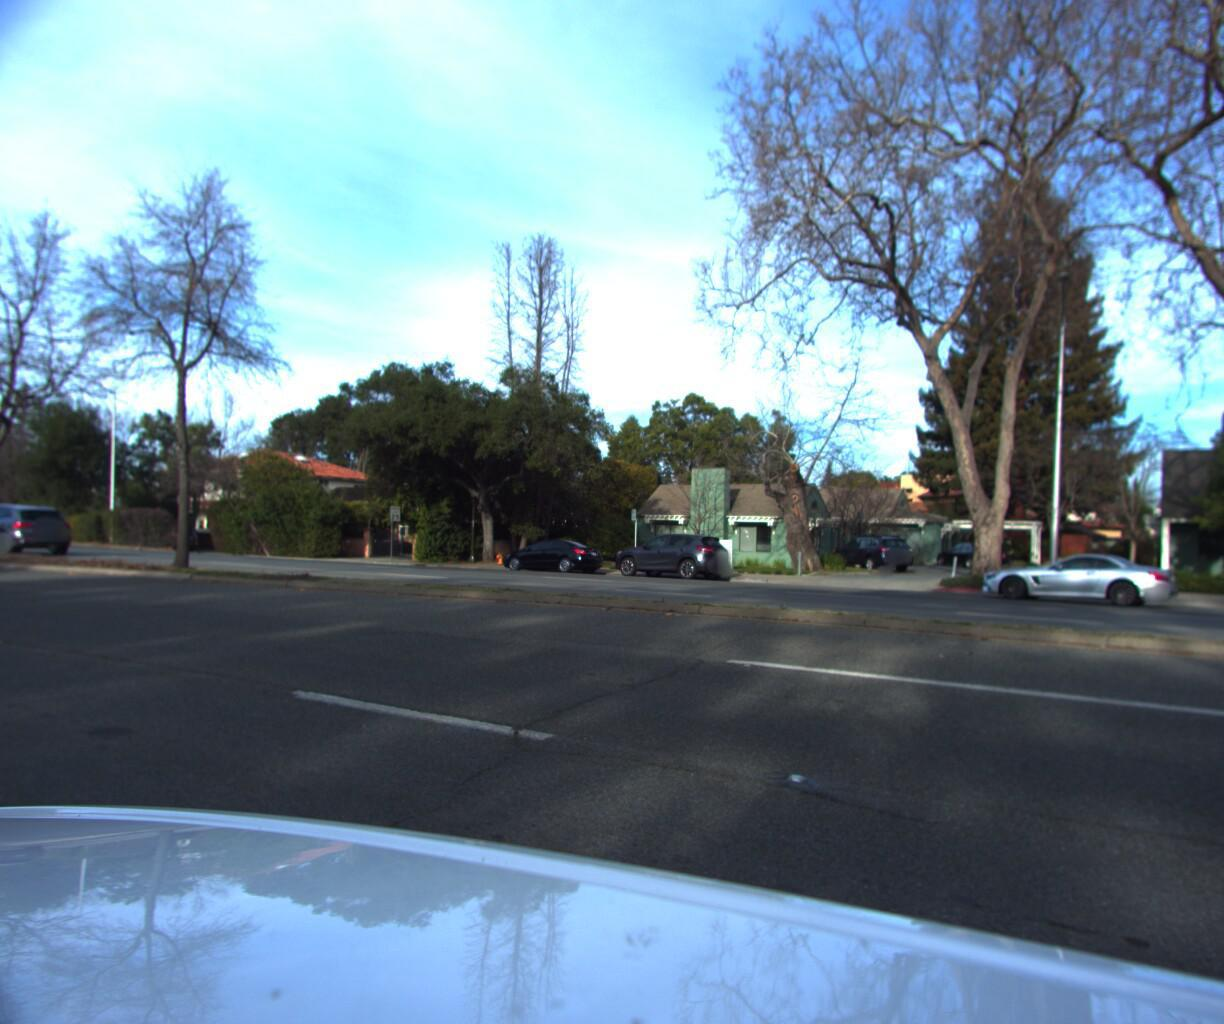car: (973, 541, 1184, 608), (604, 531, 735, 583), (495, 538, 605, 578), (0, 509, 81, 562), (822, 532, 916, 573)
